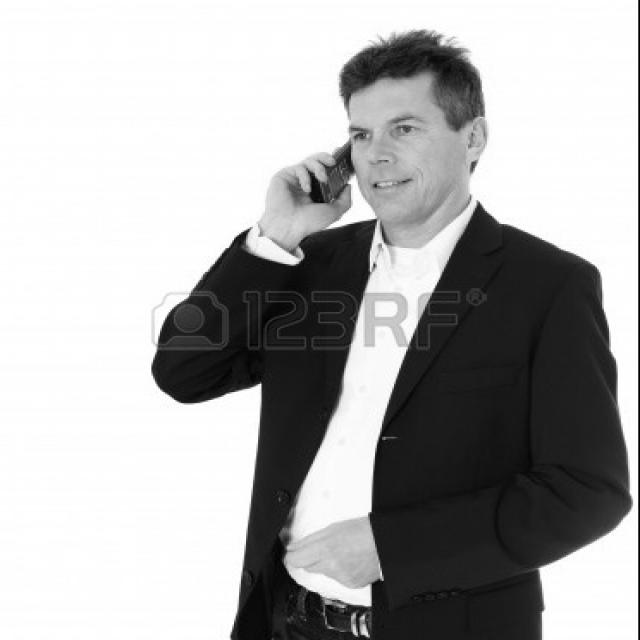phone: (258, 107, 391, 242)
